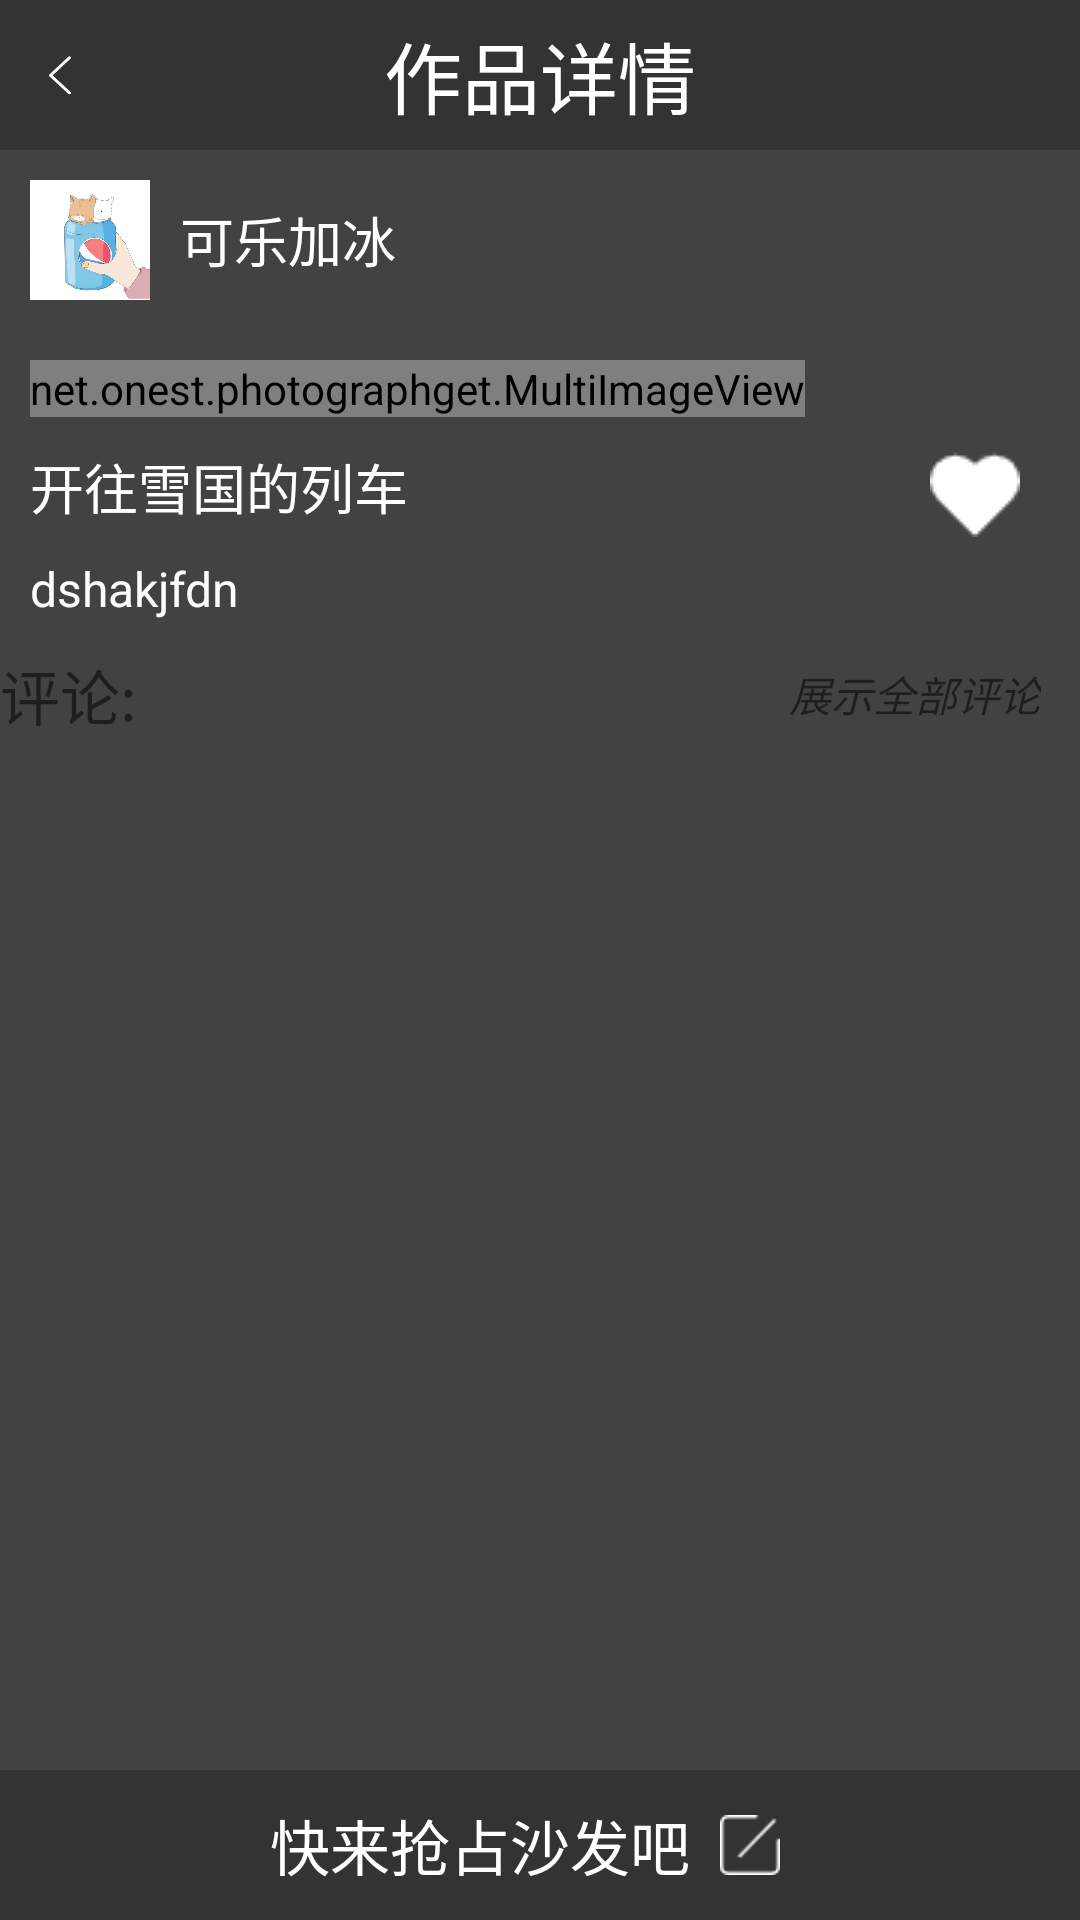

Point at icon controls on the screen. Image size 1080x1920, points as (x=x, y=y).
back: (x=60, y=75)
collection: (x=975, y=495)
writecccc: (x=750, y=1845)
